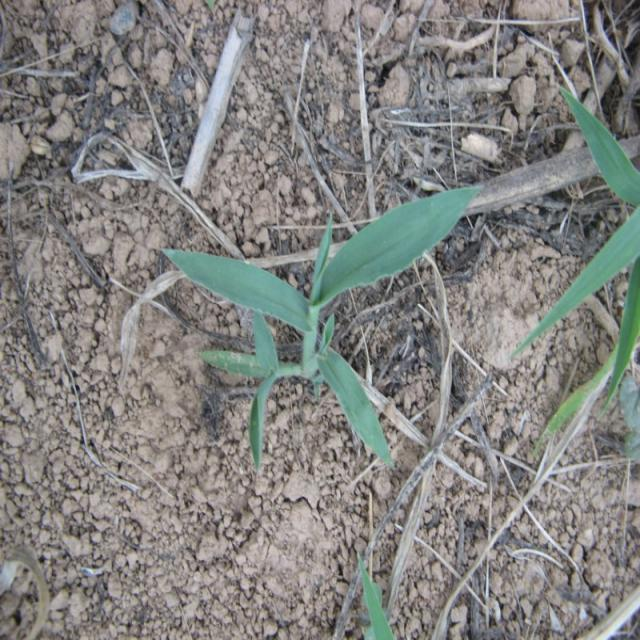bg: (158, 182, 476, 464)
